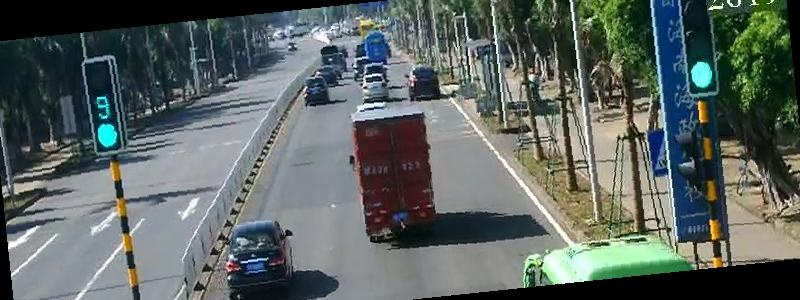green: (688, 61, 717, 88), (94, 123, 120, 148)
greentime: (90, 96, 117, 121)
